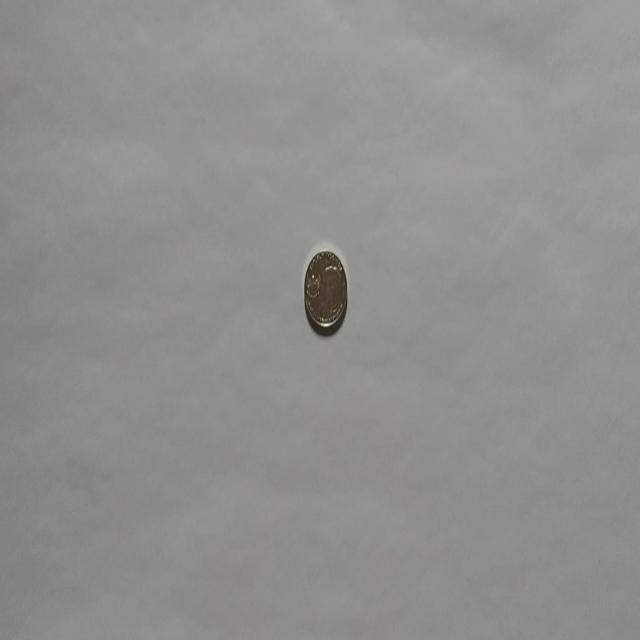seratus rupiah: (302, 248, 348, 332)
